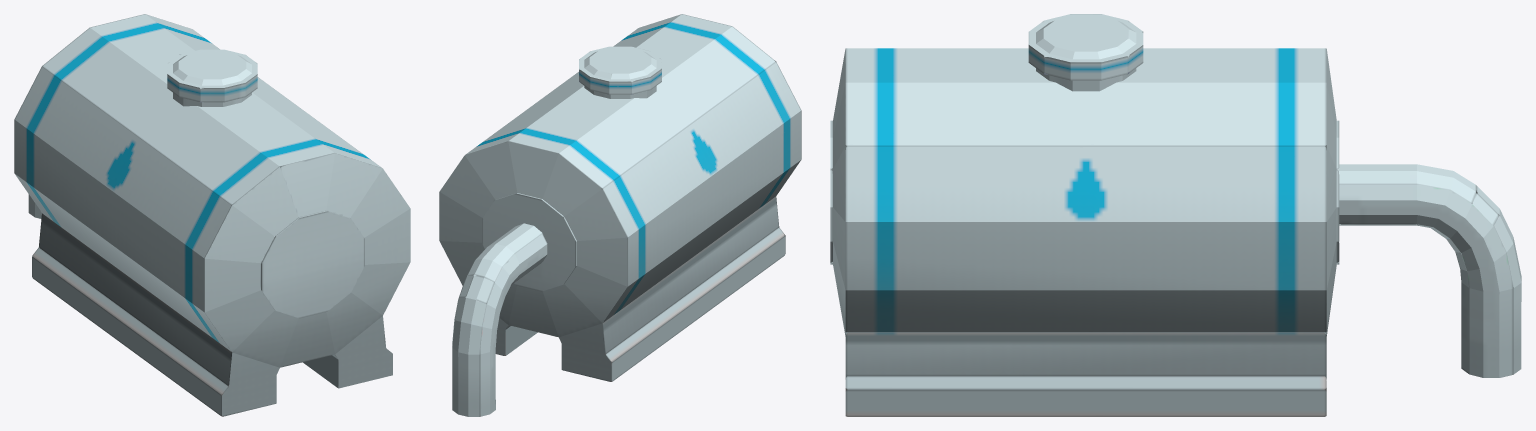
Rendered from Water Tank 1.fbx.
3 views of the same model, side by side, from view 1: azimuth 30°, elevation 25°; view 2: azimuth 150°, elevation 25°; view 3: azimuth 270°, elevation 25° (orthographic). The views are drawn at different scales.
Visible parts, largest first — view 1: cylinder, cylinder_1; view 2: cylinder, cylinder_2, cylinder_1; view 3: cylinder, cylinder_2, cylinder_1.
Boxes of the visible parts, bbox=[...] form: cylinder: bbox=[14, 14, 410, 416]; cylinder_1: bbox=[167, 49, 257, 106]; cylinder: bbox=[439, 14, 801, 381]; cylinder_2: bbox=[452, 223, 547, 416]; cylinder_1: bbox=[579, 46, 661, 98]; cylinder: bbox=[830, 48, 1339, 416]; cylinder_2: bbox=[1337, 164, 1521, 377]; cylinder_1: bbox=[1028, 14, 1143, 91].
Size of the model in its own units: 188 by 228 by 431.
Materials: 1 (1 with a texture image).
